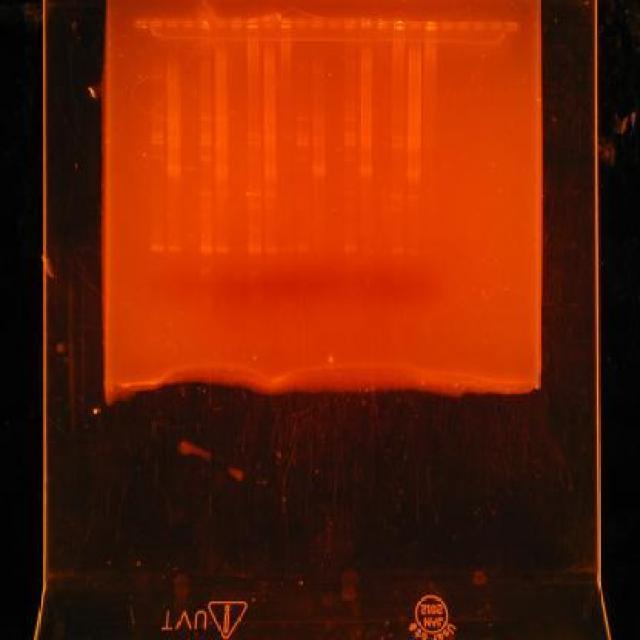B: (150, 242, 164, 253), (166, 243, 180, 254), (199, 243, 213, 254), (390, 244, 406, 253), (342, 244, 358, 253), (214, 246, 230, 254), (248, 247, 262, 256), (167, 164, 181, 172), (167, 170, 181, 178), (391, 205, 404, 213), (312, 165, 326, 172), (296, 245, 310, 252), (200, 202, 212, 210), (406, 134, 422, 140), (152, 134, 166, 140), (150, 130, 164, 136), (248, 204, 262, 210), (248, 192, 262, 198), (264, 191, 278, 197), (266, 247, 280, 253), (264, 166, 278, 172), (296, 141, 310, 147), (390, 193, 404, 199), (406, 194, 420, 200), (406, 168, 420, 174), (407, 174, 421, 180), (407, 144, 421, 150), (343, 142, 357, 148), (343, 136, 357, 142), (359, 166, 373, 172), (358, 172, 372, 178), (407, 113, 421, 119), (312, 141, 326, 147), (214, 190, 228, 196), (214, 166, 228, 172), (216, 136, 230, 142), (280, 247, 294, 253), (151, 140, 164, 146), (150, 114, 163, 120), (151, 153, 164, 159), (182, 166, 195, 172), (185, 232, 198, 238), (199, 154, 212, 160), (296, 154, 309, 160), (391, 138, 404, 144), (200, 190, 212, 196), (248, 140, 260, 146), (264, 116, 276, 122), (344, 191, 356, 197), (344, 154, 356, 160), (360, 111, 372, 117), (198, 136, 212, 141), (264, 172, 278, 177), (263, 142, 277, 147), (296, 136, 310, 141), (312, 173, 326, 178), (343, 132, 357, 137), (407, 120, 421, 125), (214, 142, 228, 147), (296, 116, 309, 121), (391, 143, 404, 148), (248, 132, 260, 137), (344, 116, 356, 121), (168, 140, 180, 145), (198, 142, 212, 146), (296, 132, 310, 136), (358, 118, 372, 122), (263, 138, 277, 142), (199, 132, 212, 136), (391, 134, 404, 138), (407, 141, 421, 144), (312, 137, 326, 140), (214, 117, 228, 120), (247, 137, 261, 140), (199, 117, 212, 120), (168, 136, 180, 139)
L: (129, 10, 523, 36)
Pc: (376, 18, 390, 32), (262, 14, 276, 28), (294, 16, 308, 29), (133, 18, 147, 30), (488, 20, 502, 32), (472, 20, 486, 32), (360, 18, 374, 30), (343, 18, 357, 30), (149, 17, 163, 28), (198, 19, 212, 30), (214, 17, 228, 28), (424, 20, 438, 31), (440, 20, 454, 31), (456, 20, 470, 31), (392, 19, 406, 30), (278, 17, 292, 28), (230, 18, 242, 30), (167, 17, 180, 28), (247, 17, 260, 28), (409, 19, 422, 30), (311, 17, 324, 28), (182, 18, 196, 28), (504, 22, 518, 32), (328, 17, 340, 28)
